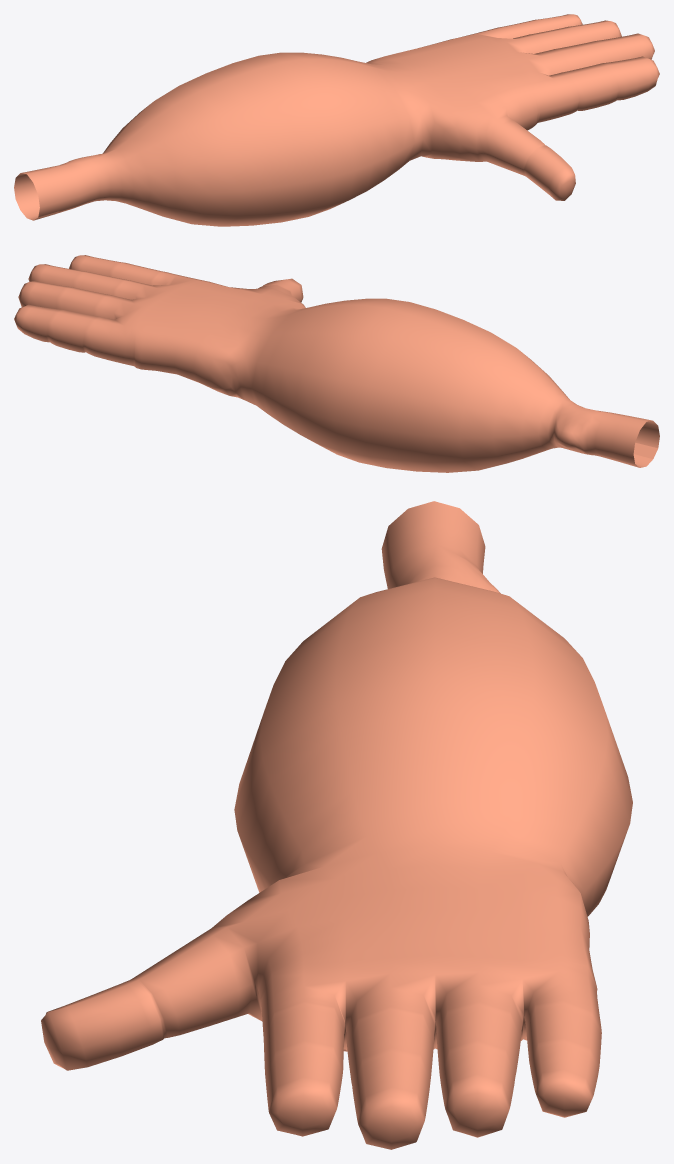
Rendered from right_arm.obj.
The picture shows the model from 3 angles, top to bottom: view 1: azimuth 30°, elevation 25°; view 2: azimuth 150°, elevation 25°; view 3: azimuth 270°, elevation 25°; orthographic projection. The views are drawn at different scales.
Parts seen in each view (by area): view 1: Popeye:PopeyeGeoarm_left; view 2: Popeye:PopeyeGeoarm_left; view 3: Popeye:PopeyeGeoarm_left.
Boxes of the visible parts, x1,y1,x2,y2 form: Popeye:PopeyeGeoarm_left: (14, 14, 659, 226); Popeye:PopeyeGeoarm_left: (14, 255, 659, 472); Popeye:PopeyeGeoarm_left: (41, 501, 632, 1149).
Size of the model in its own units: 3.35 by 0.7521 by 1.4.
